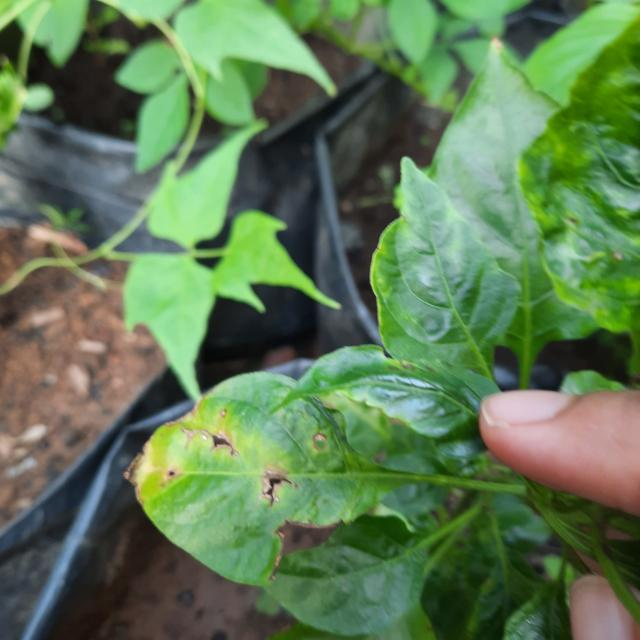bercak_daun: (111, 372, 447, 556)
